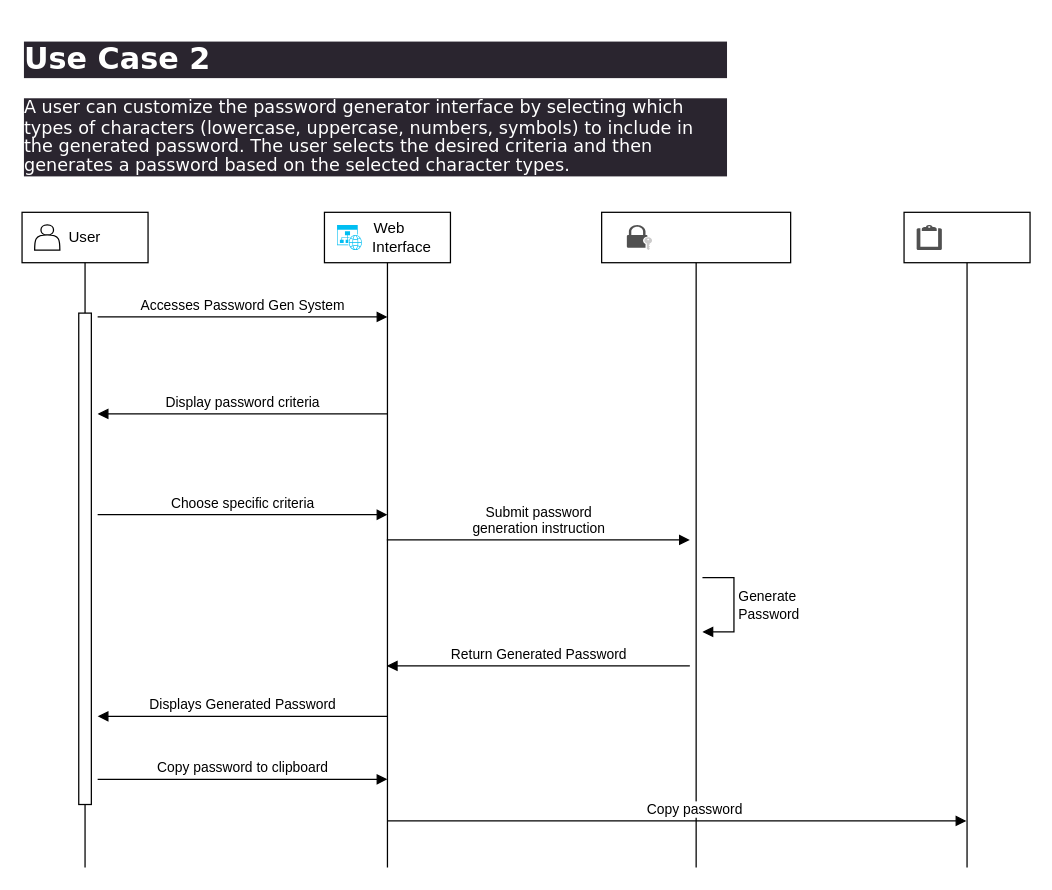
The diagram is 1052 pixels wide and 890 high, and some of its shapes have lost their labels. The box of each missing label's shape, as (x1, y1, x2, y2) in pixels:
Clipboard: (903, 211, 1030, 868)
Password Generation System: (600, 211, 791, 868)
